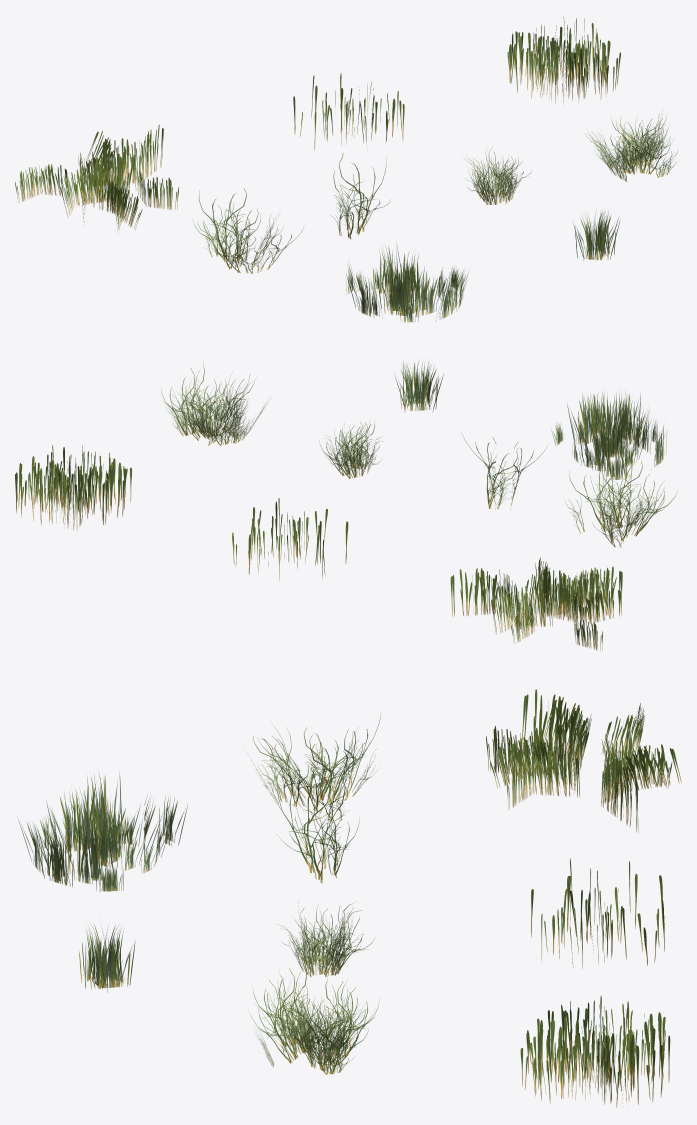
Rendered from realistic_grass_pack_for_games_free.glb.
3 renders of one model, top to bottom at view 1: azimuth 30°, elevation 25°; view 2: azimuth 150°, elevation 25°; view 3: azimuth 270°, elevation 25°, orthographic. The views are drawn at different scales.
Parts seen in each view (by area): view 1: Wheat_Grass_LowPoly_0, Wheat_Grass_High_Dense_1, Grass_B_Low_Dense_4, Grass_jumbled_Low_Dense_1_7, Grass_jumbled_Low_Spread_8, Wheat_Grass_High_Spread_2, Grass_Jumbled_Low_Dense_5, Grass_B_Low_Small_3, Grass_jumbled_Low_Spread_1_6; view 2: Wheat_Grass_LowPoly_0, Grass_B_Low_Dense_4, Wheat_Grass_High_Dense_1, Grass_jumbled_Low_Dense_1_7, Grass_jumbled_Low_Spread_8, Wheat_Grass_High_Spread_2, Grass_Jumbled_Low_Dense_5, Grass_B_Low_Small_3, Grass_jumbled_Low_Spread_1_6; view 3: Wheat_Grass_LowPoly_0, Grass_B_Low_Dense_4, Wheat_Grass_High_Dense_1, Grass_jumbled_Low_Dense_1_7, Grass_jumbled_Low_Spread_8, Wheat_Grass_High_Spread_2, Grass_Jumbled_Low_Dense_5, Grass_B_Low_Small_3, Grass_jumbled_Low_Spread_1_6.
Boxes of the visible parts, bbox=[...] form: Wheat_Grass_LowPoly_0: bbox=[15, 124, 178, 230]; Wheat_Grass_High_Dense_1: bbox=[507, 16, 620, 102]; Grass_B_Low_Dense_4: bbox=[346, 244, 468, 322]; Grass_jumbled_Low_Dense_1_7: bbox=[585, 113, 677, 181]; Grass_jumbled_Low_Spread_8: bbox=[192, 188, 303, 273]; Wheat_Grass_High_Spread_2: bbox=[293, 73, 404, 150]; Grass_Jumbled_Low_Dense_5: bbox=[465, 147, 531, 204]; Grass_B_Low_Small_3: bbox=[573, 211, 619, 260]; Grass_jumbled_Low_Spread_1_6: bbox=[332, 153, 390, 238]; Wheat_Grass_LowPoly_0: bbox=[450, 557, 622, 650]; Grass_B_Low_Dense_4: bbox=[551, 392, 667, 480]; Wheat_Grass_High_Dense_1: bbox=[15, 445, 131, 530]; Grass_jumbled_Low_Dense_1_7: bbox=[161, 363, 264, 445]; Grass_jumbled_Low_Spread_8: bbox=[564, 459, 678, 547]; Wheat_Grass_High_Spread_2: bbox=[232, 498, 348, 581]; Grass_Jumbled_Low_Dense_5: bbox=[320, 421, 382, 478]; Grass_B_Low_Small_3: bbox=[395, 361, 443, 412]; Grass_jumbled_Low_Spread_1_6: bbox=[462, 434, 548, 509]; Wheat_Grass_LowPoly_0: bbox=[486, 689, 681, 832]; Grass_B_Low_Dense_4: bbox=[18, 772, 187, 891]; Wheat_Grass_High_Dense_1: bbox=[520, 996, 670, 1107]; Grass_jumbled_Low_Dense_1_7: bbox=[249, 961, 379, 1074]; Grass_jumbled_Low_Spread_8: bbox=[251, 714, 380, 820]; Wheat_Grass_High_Spread_2: bbox=[531, 858, 664, 968]; Grass_Jumbled_Low_Dense_5: bbox=[280, 902, 375, 977]; Grass_B_Low_Small_3: bbox=[79, 924, 134, 992]; Grass_jumbled_Low_Spread_1_6: bbox=[276, 772, 359, 883].
Bounding box in the file's own units: 2.9 × 0.4033 × 2.18.
5 materials, 5 textured.
